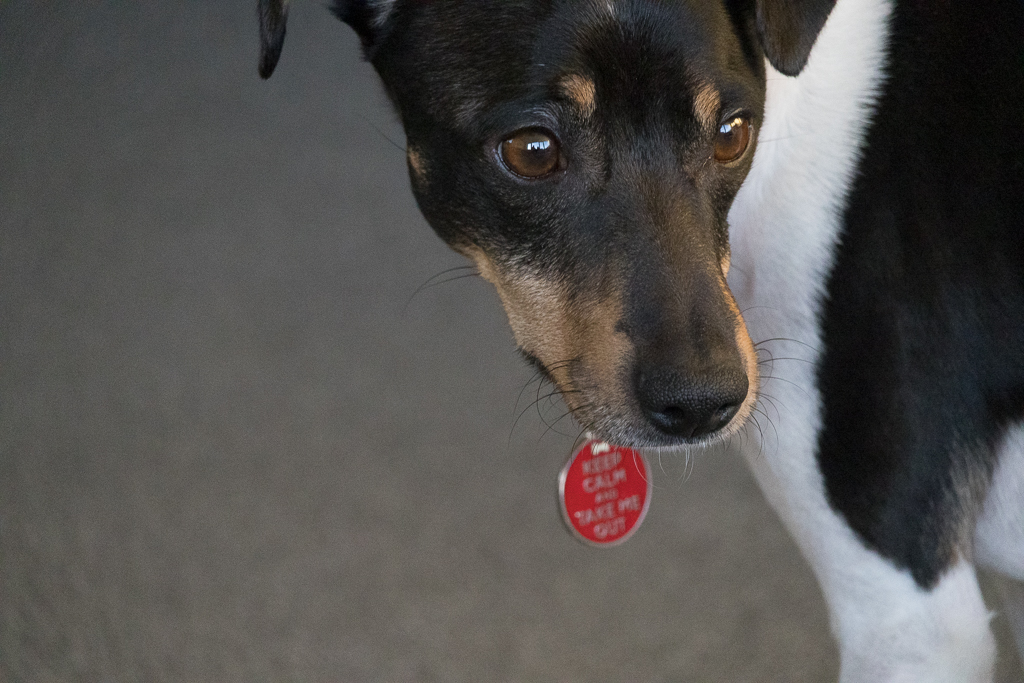Dog: (245, 0, 1024, 683)
